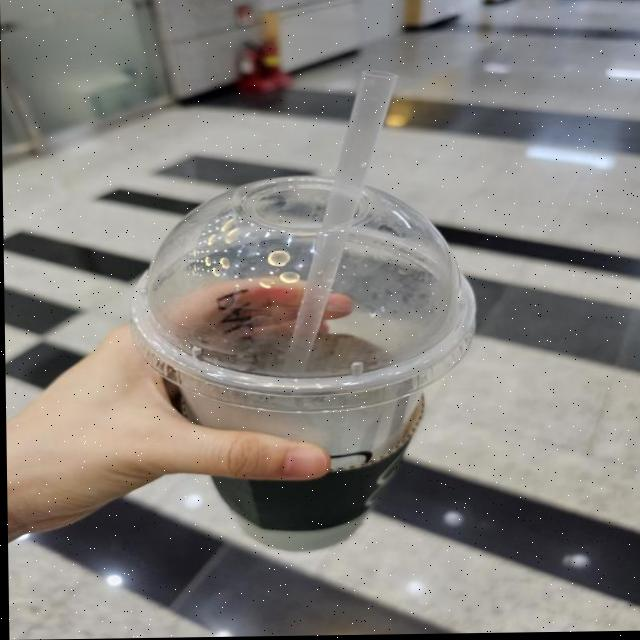cup: (120, 164, 488, 558)
